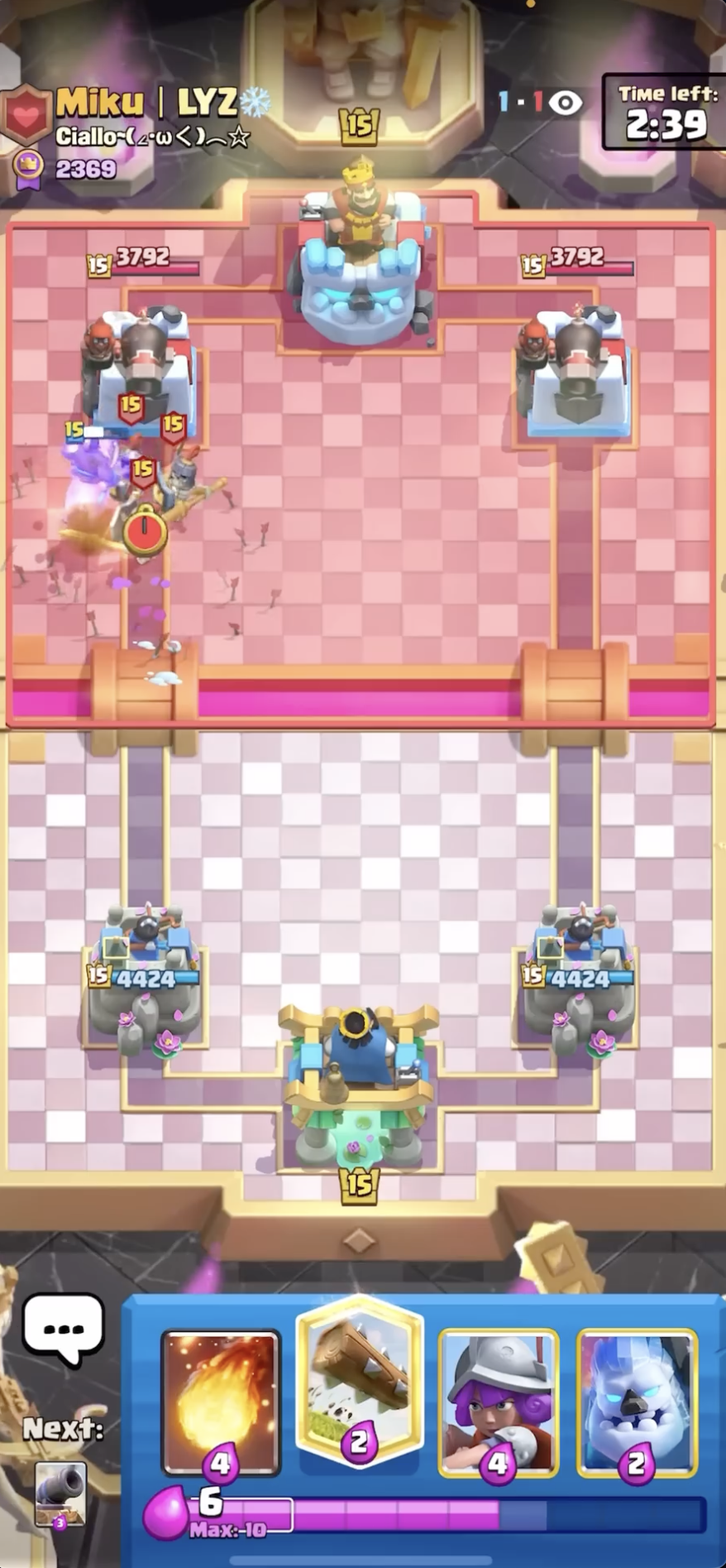hog-rider: (59, 416, 142, 516)
